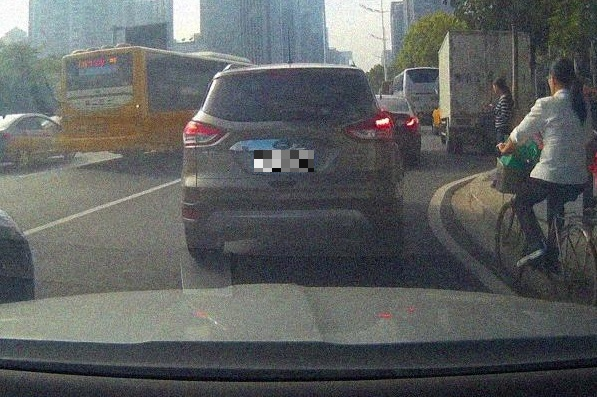L_light: (183, 120, 227, 146)
R_light: (343, 112, 396, 142)
T_light: (276, 71, 303, 77)
day-right: (181, 63, 404, 259)
plate_1: (254, 150, 314, 172)
